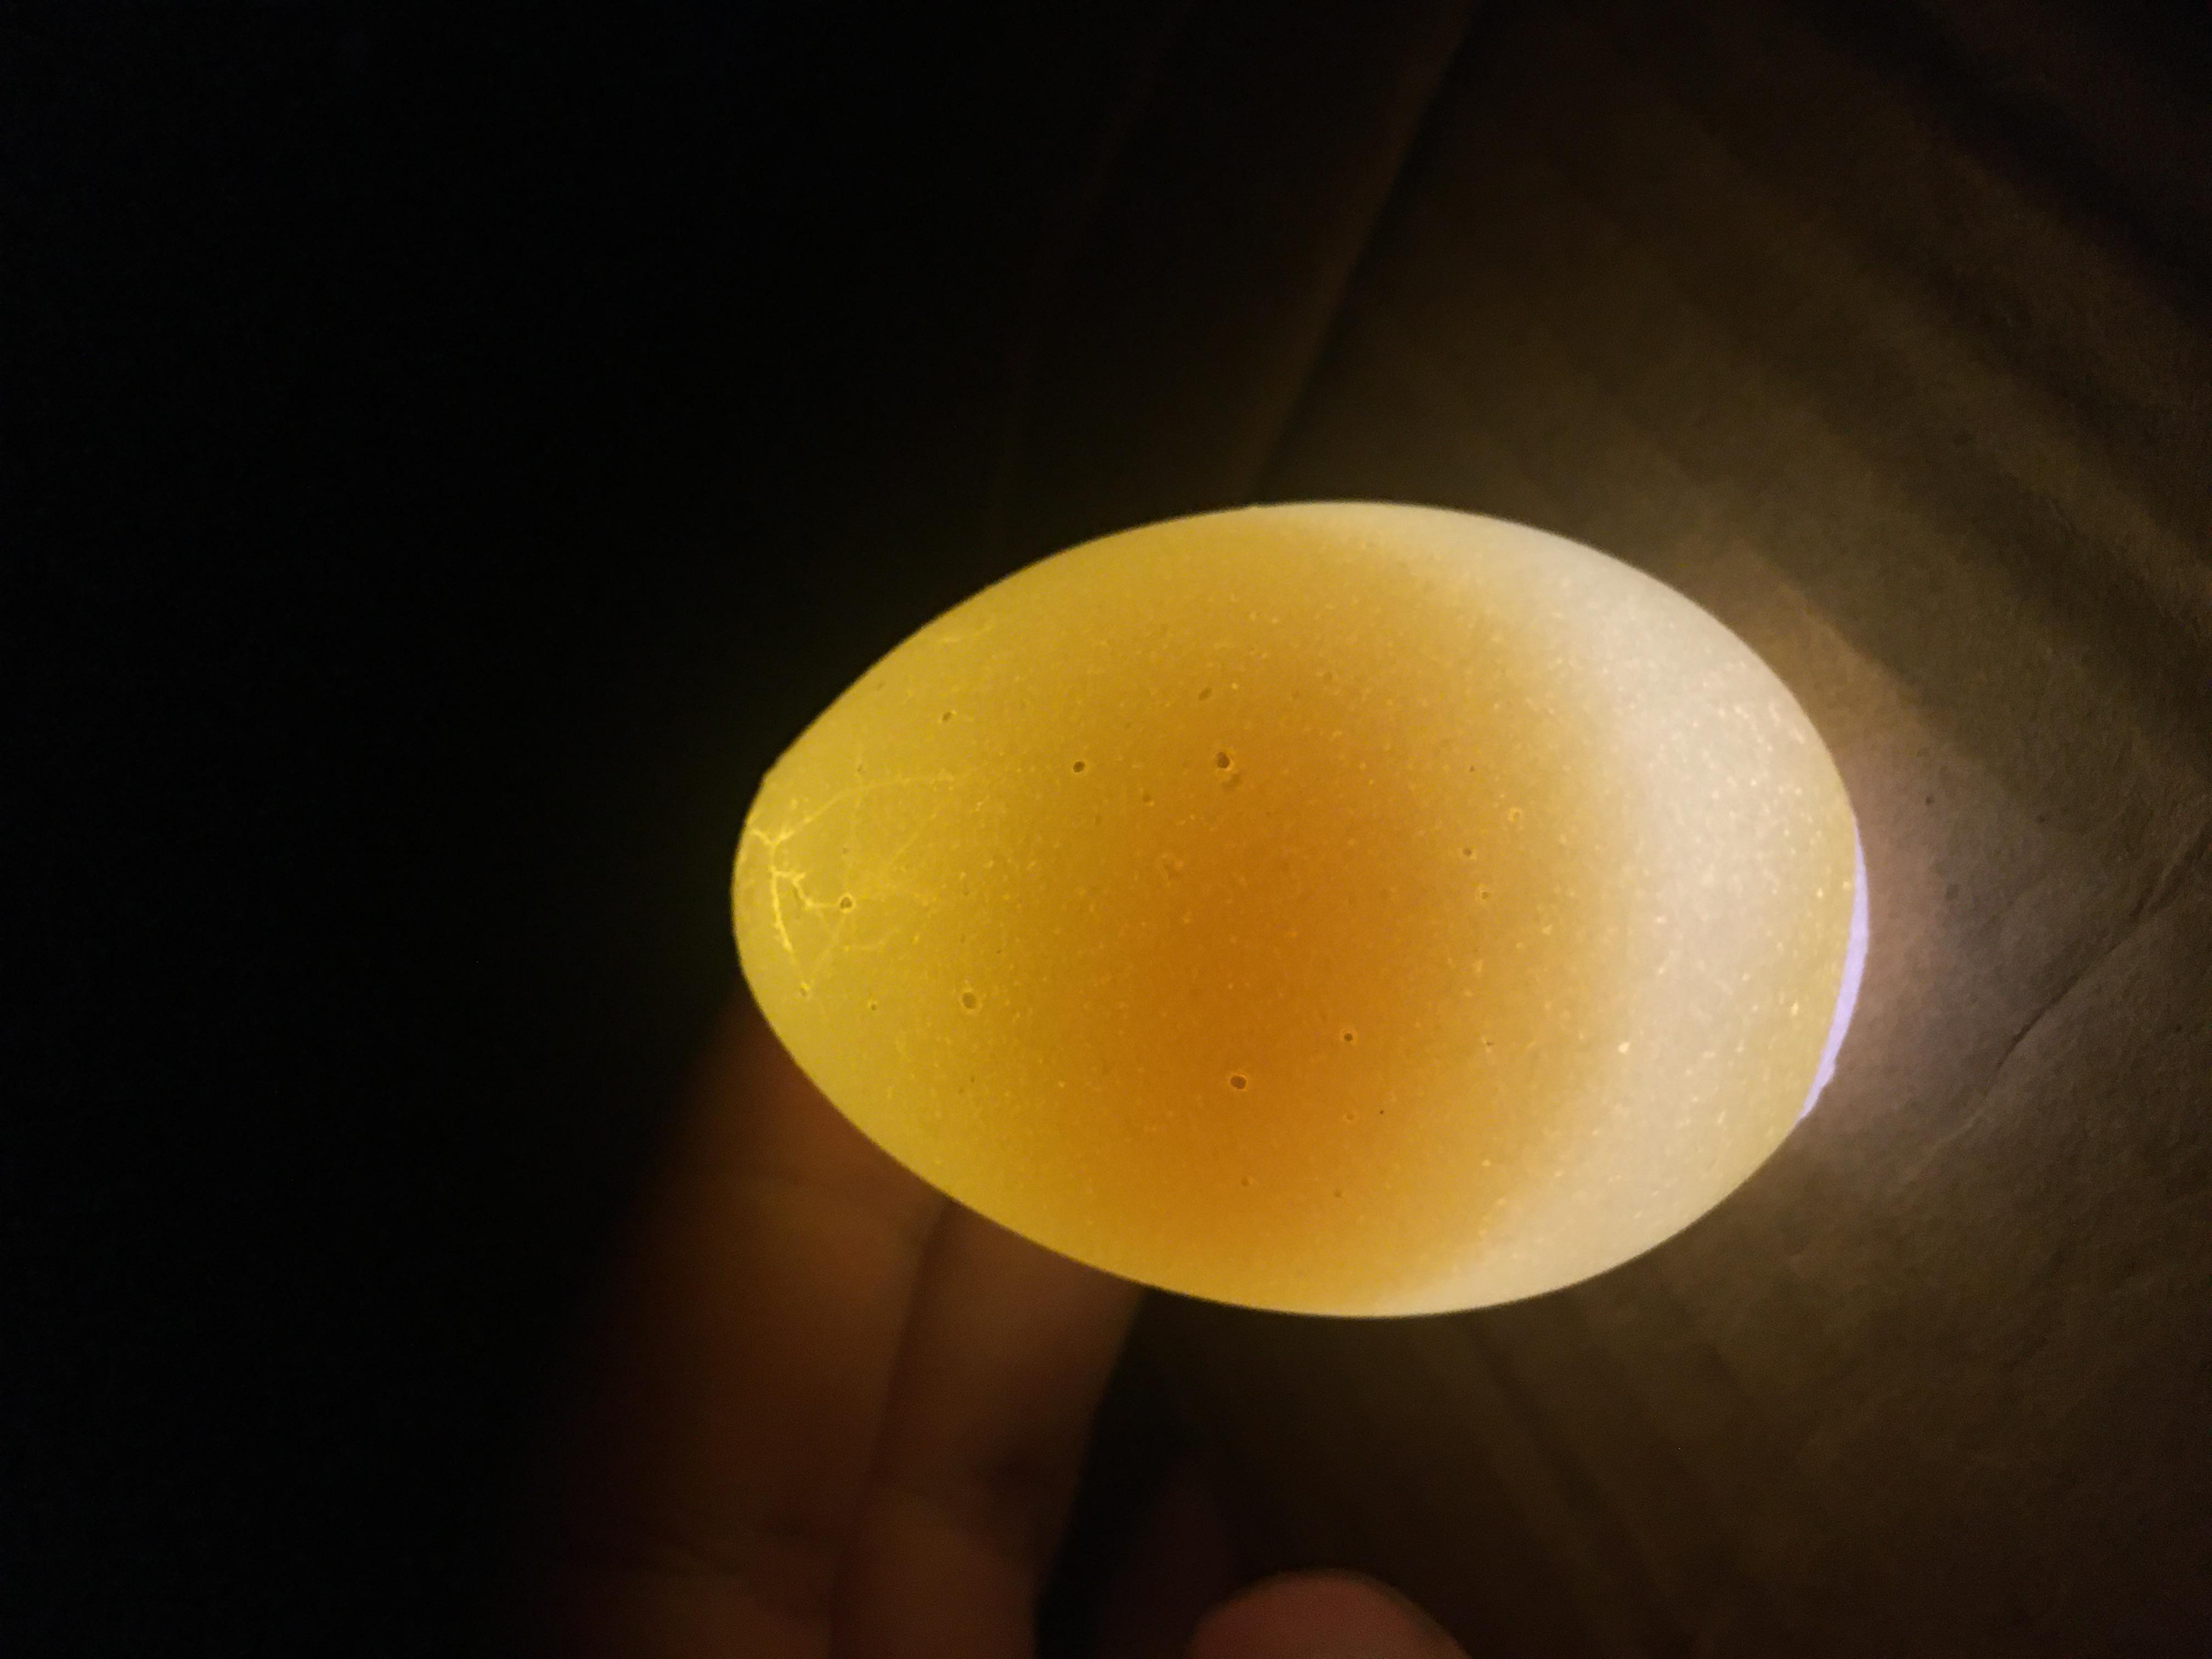B - Fair: (420, 533, 1562, 1412)
